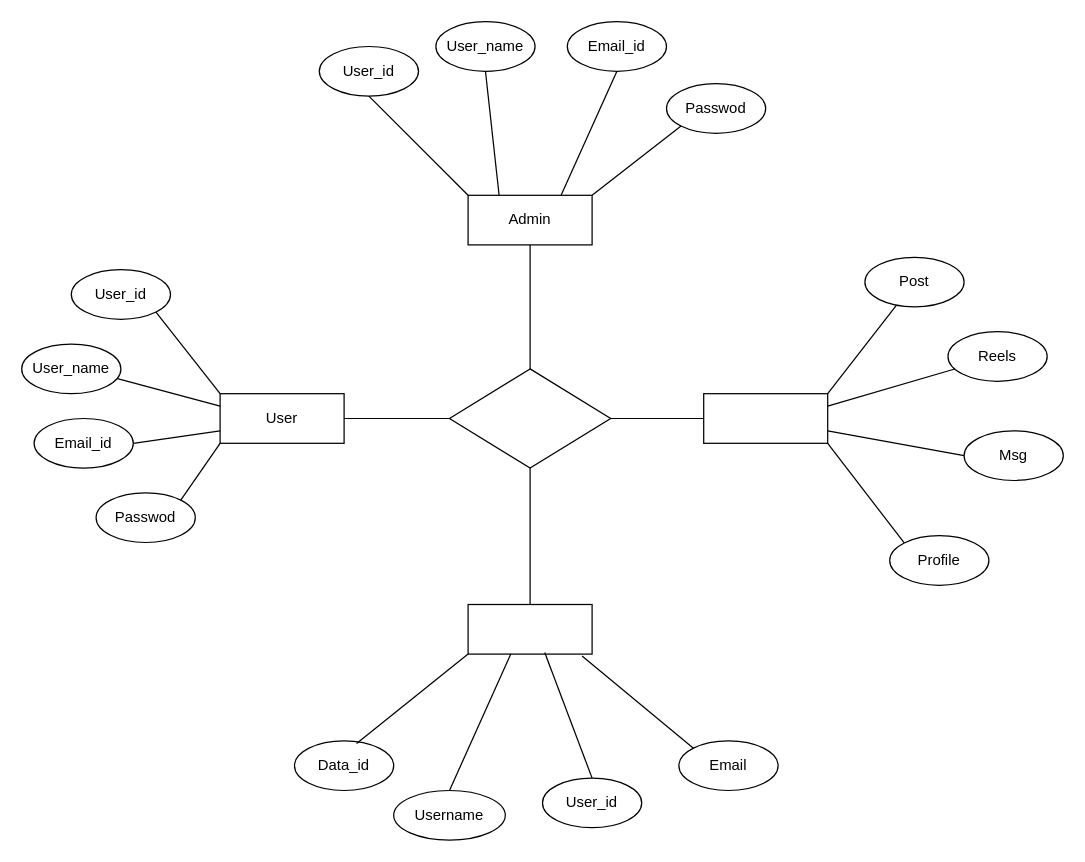
This 1085x862 diagram has some shape labels left out. The shapes that lost their labels are listed below. From the top down, each one's centre as x and y in pixels, then its label:
At pixel 529 418: "Manage".
At pixel 765 417: "User Data".
At pixel 529 628: "Admin Data".
